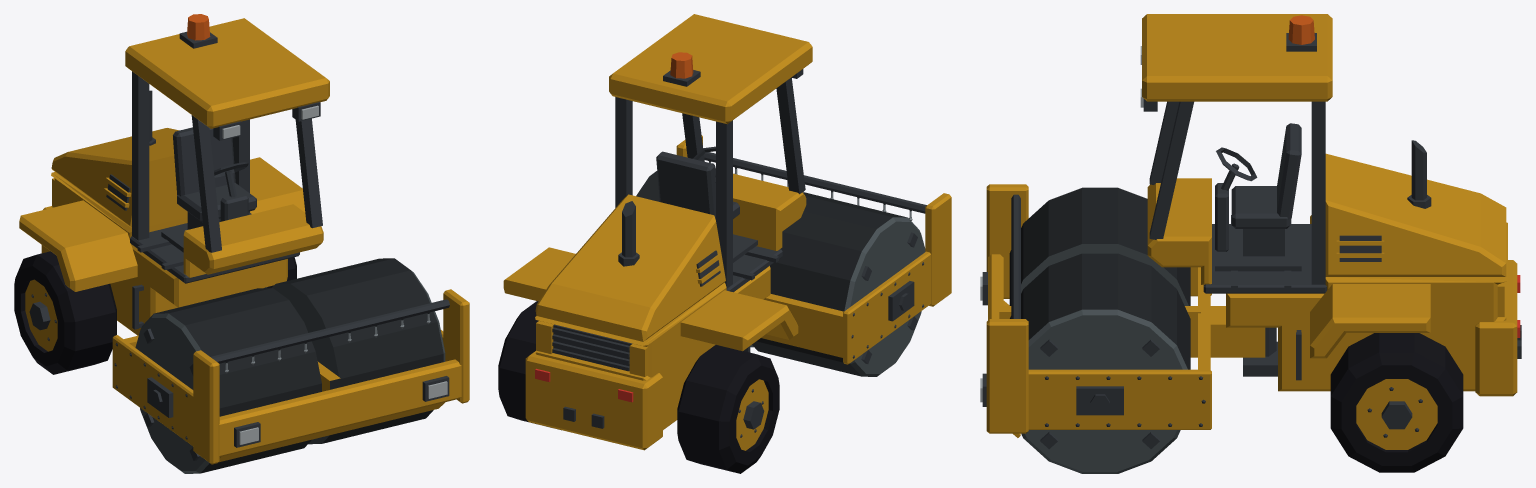
Rendered from tandem-road-roller.glb.
The picture shows the model from 3 angles, left to right: view 1: azimuth 30°, elevation 25°; view 2: azimuth 150°, elevation 25°; view 3: azimuth 270°, elevation 25°; orthographic projection. The views are drawn at different scales.
Visible parts, largest first — view 1: rear-unit; view 2: rear-unit; view 3: rear-unit.
Boxes of the visible parts, <box> form: rear-unit: <box>14,14,469,473</box>; rear-unit: <box>498,14,951,473</box>; rear-unit: <box>980,14,1521,473</box>.
Bounding box in the file's own units: 2.45 × 3.09 × 3.87.
